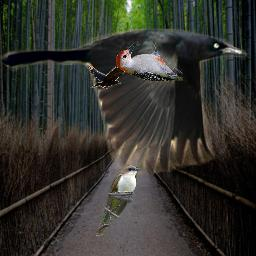Crow: (0, 26, 249, 176), (85, 60, 126, 89)
Cuckoo: (95, 164, 140, 236)
Woodpecker: (116, 41, 183, 82)
